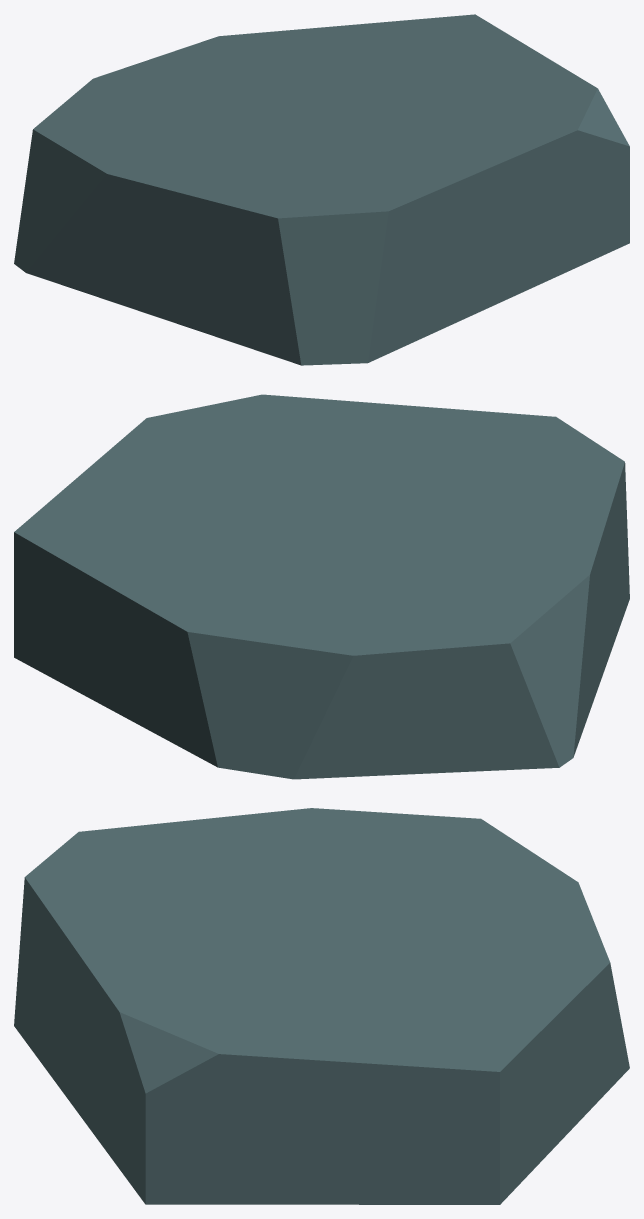
File: brigesCube_014.fbx
3 renders of one model, top to bottom at view 1: azimuth 30°, elevation 25°; view 2: azimuth 150°, elevation 25°; view 3: azimuth 270°, elevation 25°, orthographic. The views are drawn at different scales.
Visible parts, largest first — view 1: Cube.014; view 2: Cube.014; view 3: Cube.014.
Boxes of the visible parts, box(x1,y1,x2,y2) form: Cube.014: box(14, 14, 629, 365); Cube.014: box(14, 394, 629, 779); Cube.014: box(14, 808, 629, 1204).
Size of the model in its own units: 126 by 35.69 by 122.
